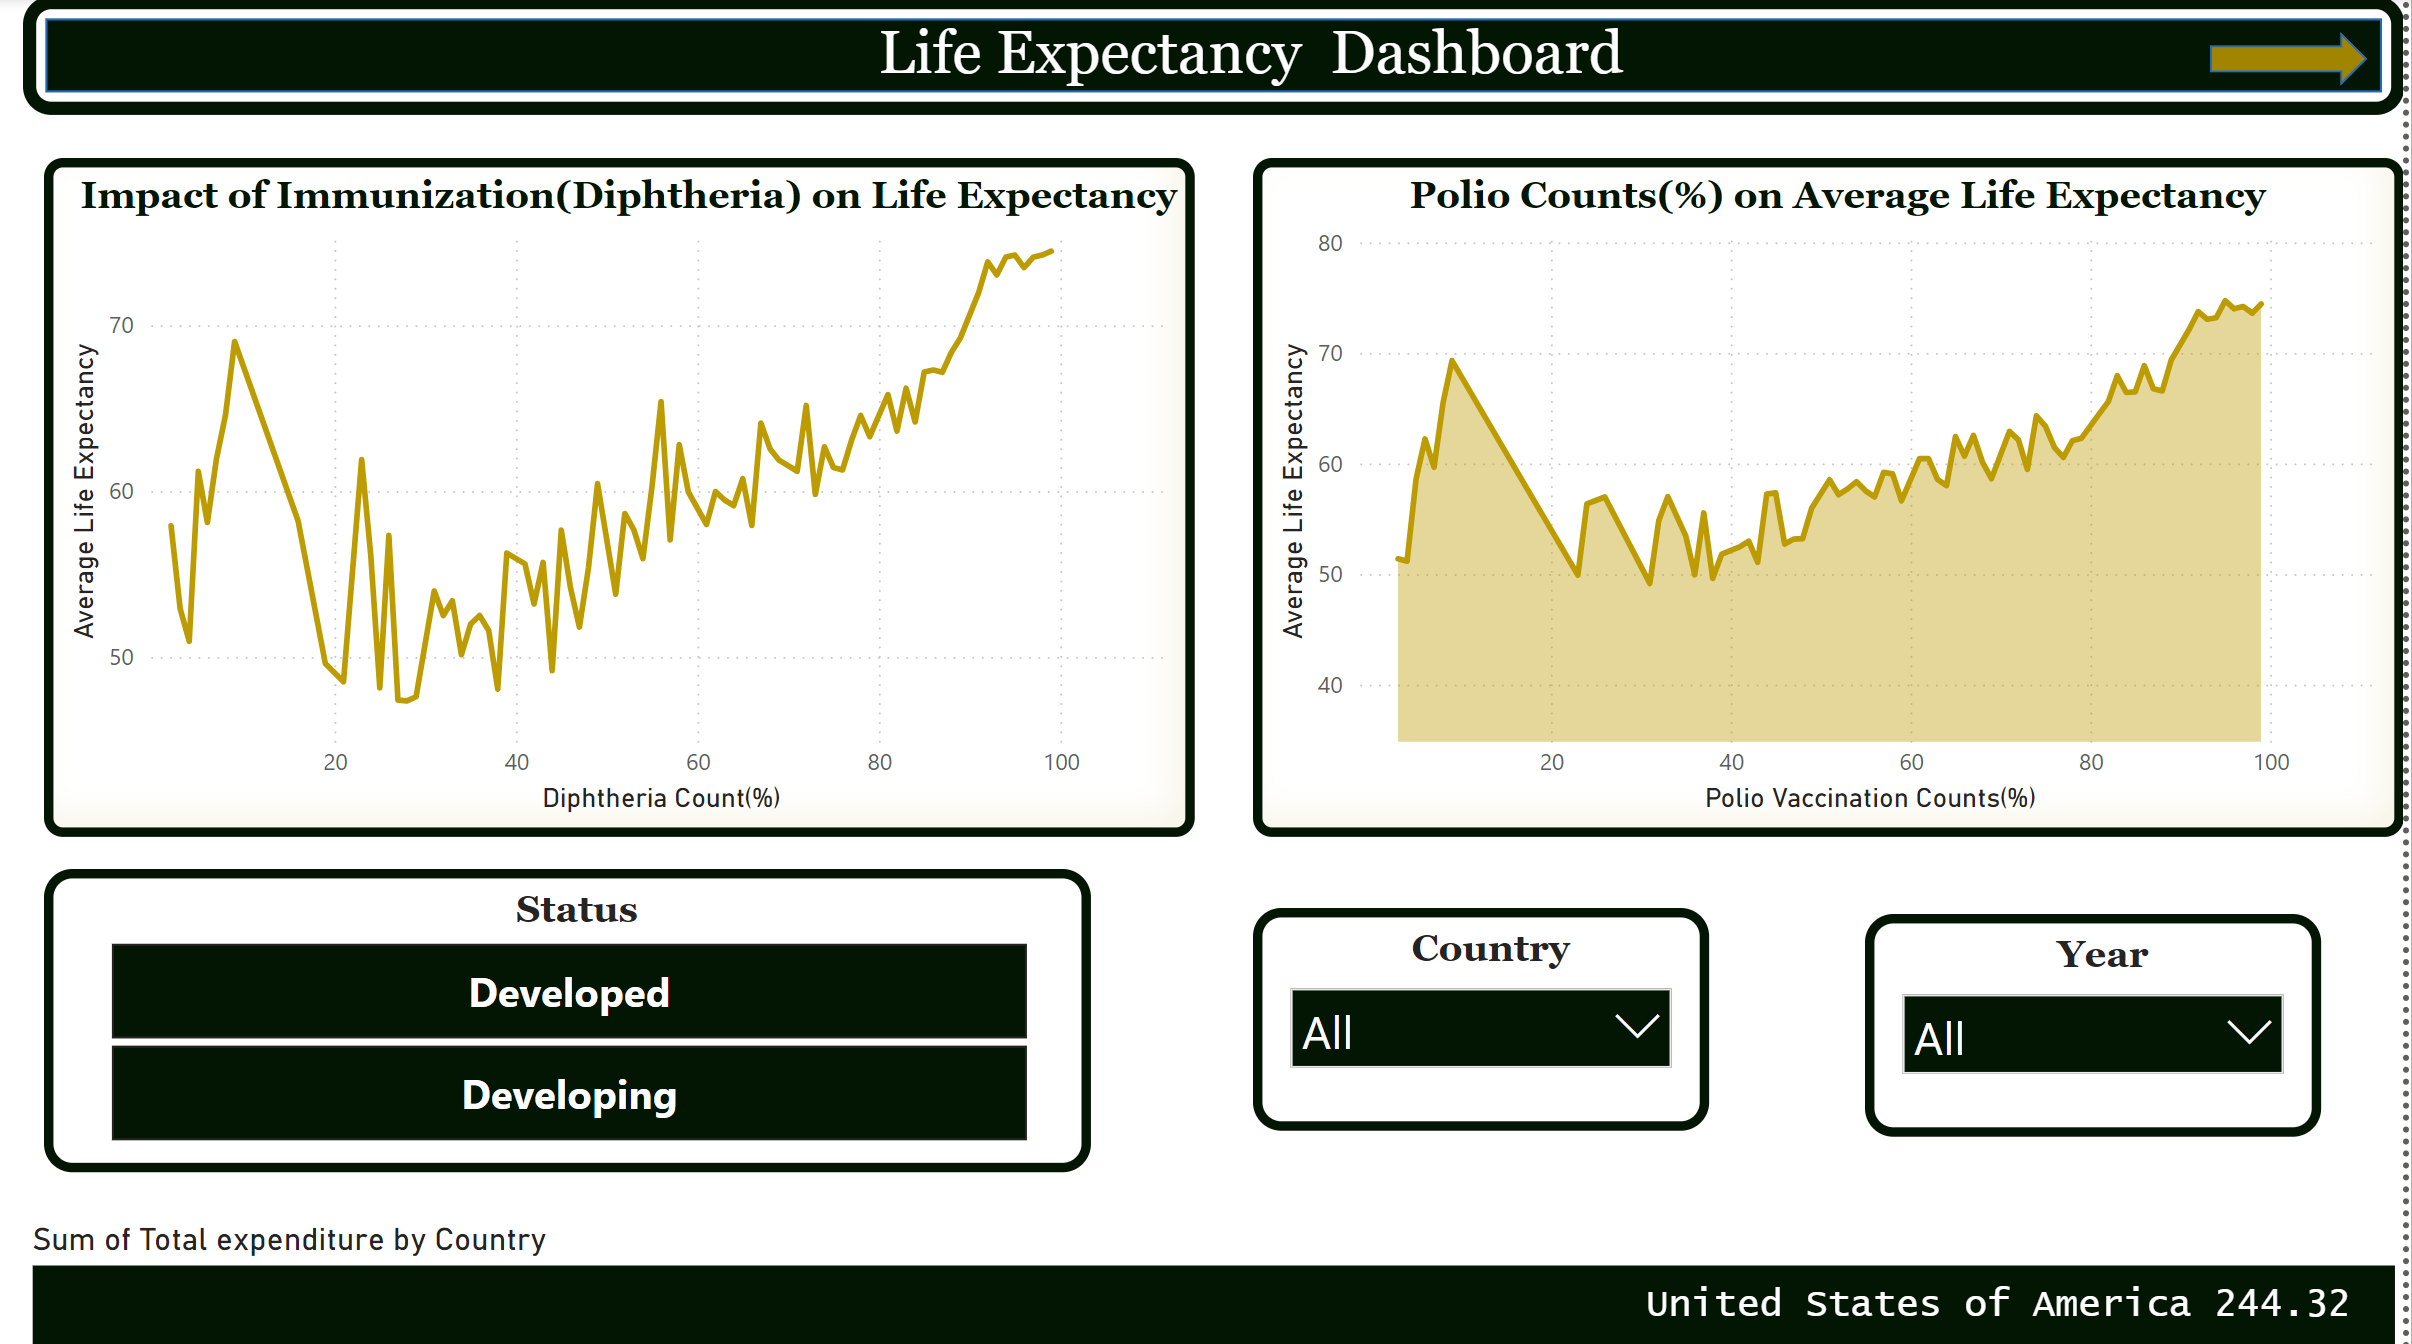

Layout of this report page (visuals, bound fields, positions):
{"tool":"powerbi","page":{"name":"Immunization","canvas":[1280,720],"ordinal":4},"visuals":[{"type":"shape","box":[18.3,0,1261.7,63],"z":0},{"type":"textbox","box":[363.7,6.1,611.6,56.9],"z":1000},{"type":"ScrollingTextVisual1448795304508","fields":{"Category":["Life Expentency.Country"],"Measure Absolute":["Sum(Life Expentency.Total expenditure)"]},"box":[18.3,648.1,1261.7,71.1],"z":2000},{"type":"areaChart","title":"Polio Counts(%) on Average Life Expectancy ","fields":{"Y":["Life Expectancy Measures.Average Life Expectancy"],"Category":["Life Expentency.Polio"]},"box":[670.5,85.3,609.5,359.6],"z":3000},{"type":"slicer","title":"Country","fields":{"Values":["Life Expentency.Country"]},"box":[670.5,483.6,241.8,117.8],"z":4000},{"type":"slicer","title":"Year","fields":{"Values":["Life Expentency.Year"]},"box":[995.6,485.6,241.8,117.8],"z":5000},{"type":"slicer","title":"Status","fields":{"Values":["Life Expentency.Status"]},"box":[30.5,463.2,554.7,160.5],"z":6000},{"type":"lineChart","title":"Impact of Immunization(Diphtheria) on Life Expectancy","fields":{"Y":["Life Expectancy Measures.Average Life Expectancy"],"Category":["Life Expentency.Diphtheria"]},"box":[30.5,85.3,609.5,359.6],"z":7000},{"type":"shape","box":[1178.4,18.3,83.3,28.4],"z":8000}]}

Visuals, with their boxes in screenshot pixels (x1, y1, x2, y2), scaled from the page's 1280x720 canvas onto the 2412x1344 screenshot:
shape: box(34, 0, 2411, 118)
textbox: box(685, 11, 1838, 118)
ScrollingTextVisual1448795304508 - Life Expentency.Country x Sum(Life Expentency.Total expenditure): box(34, 1210, 2411, 1343)
"Polio Counts(%) on Average Life Expectancy " areaChart: box(1263, 159, 2411, 830)
"Country" slicer: box(1263, 903, 1719, 1123)
"Year" slicer: box(1876, 906, 2332, 1126)
"Status" slicer: box(57, 865, 1103, 1164)
"Impact of Immunization(Diphtheria) on Life Expectancy" lineChart: box(57, 159, 1206, 830)
shape: box(2221, 34, 2378, 87)
